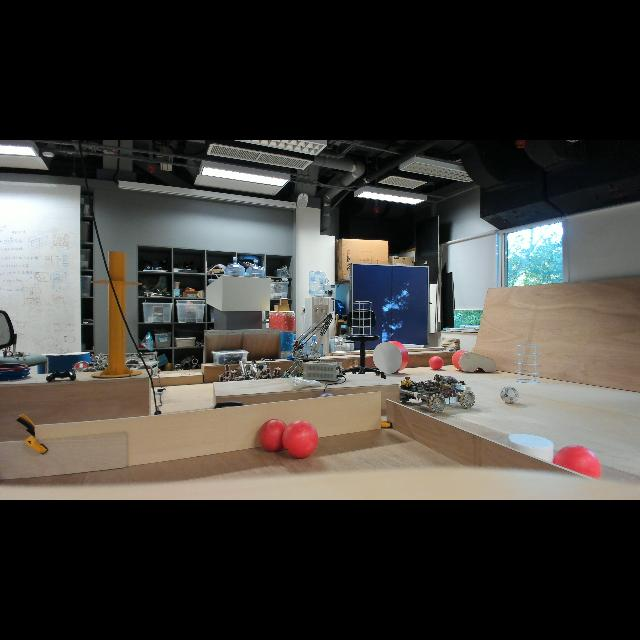R: (552, 444, 602, 480), (281, 419, 319, 458), (258, 418, 292, 452), (428, 356, 444, 370)
S: (515, 344, 541, 384), (351, 300, 372, 336)
